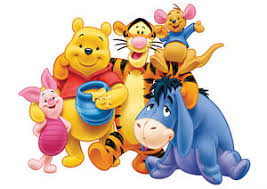Winnie: (60, 18, 116, 95)
